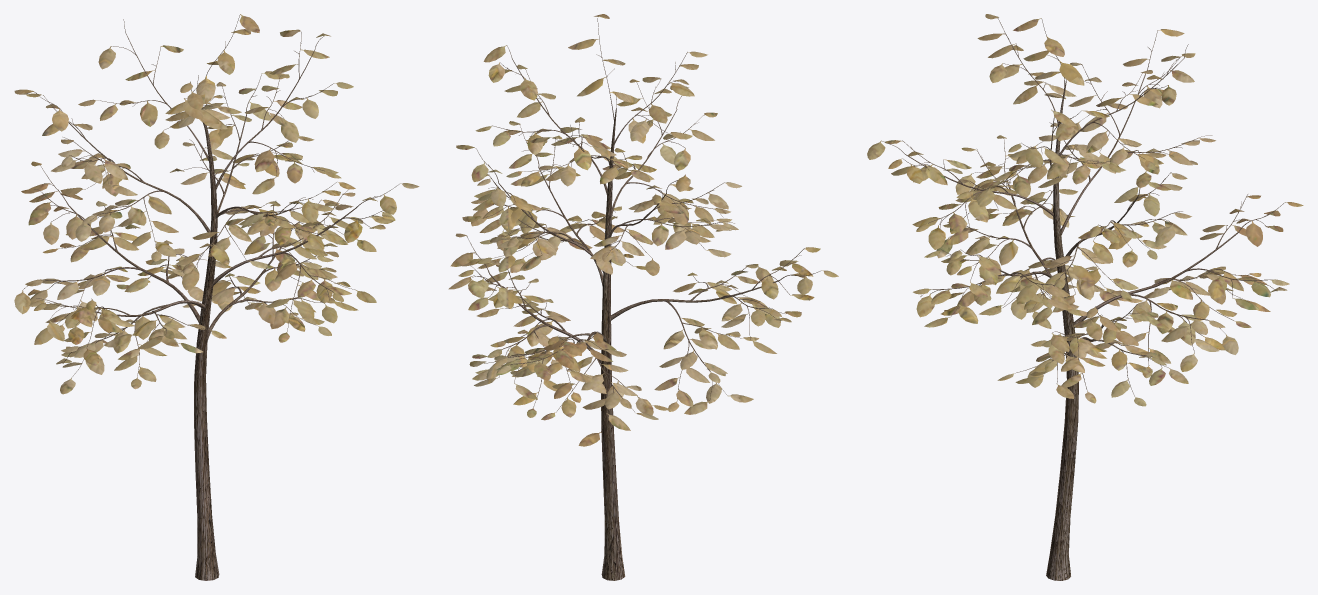
File: treeWithLeaves01.FBX
The picture shows the model from 3 angles, left to right: view 1: azimuth 30°, elevation 25°; view 2: azimuth 150°, elevation 25°; view 3: azimuth 270°, elevation 25°; orthographic projection. The views are drawn at different scales.
Visible parts, largest first — view 1: treeWithLeaves01; view 2: treeWithLeaves01; view 3: treeWithLeaves01.
Part boxes in pixels (box(x1,y1,x2,y2)): treeWithLeaves01: box(14, 14, 419, 580); treeWithLeaves01: box(448, 14, 838, 580); treeWithLeaves01: box(867, 14, 1303, 580).
Size of the model in its own units: 286 by 425 by 295.
Materials: 2 (2 with a texture image).
